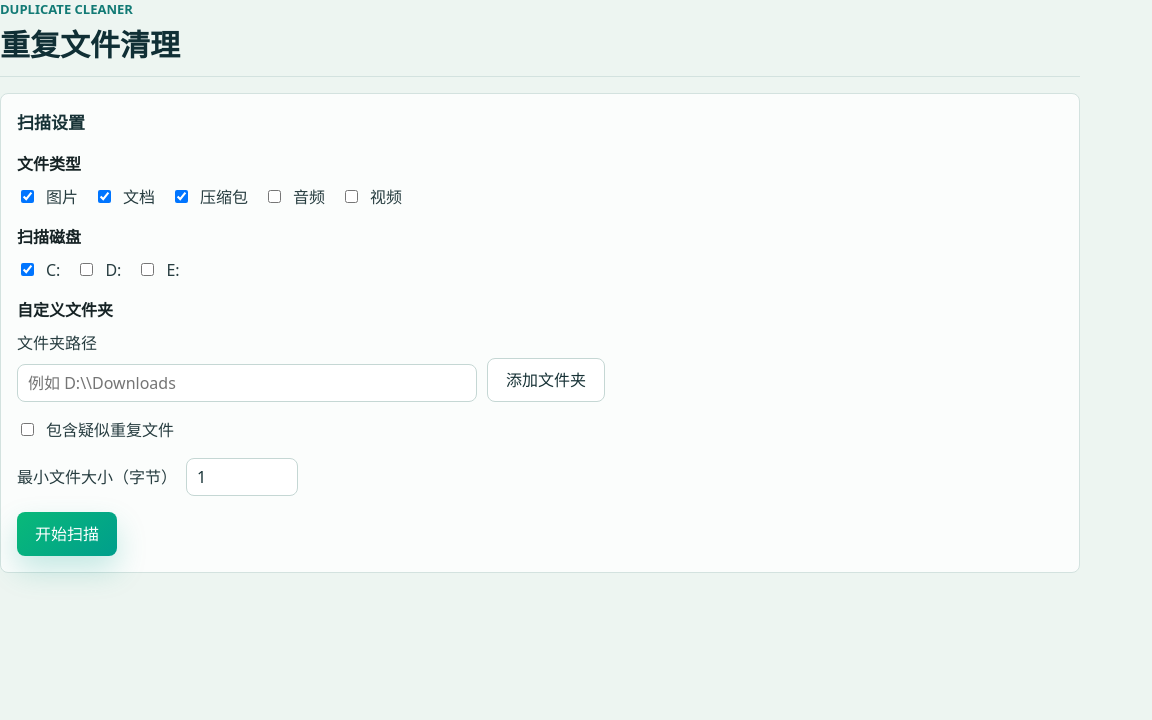
DuplicateCleanerPage › separates strict and suspected duplicate results and does not show raw fingerprints
The width and height of the screenshot is (1152, 720).
Click the button "开始扫描": (67, 534) top-left (17, 512), bottom-right (117, 556)
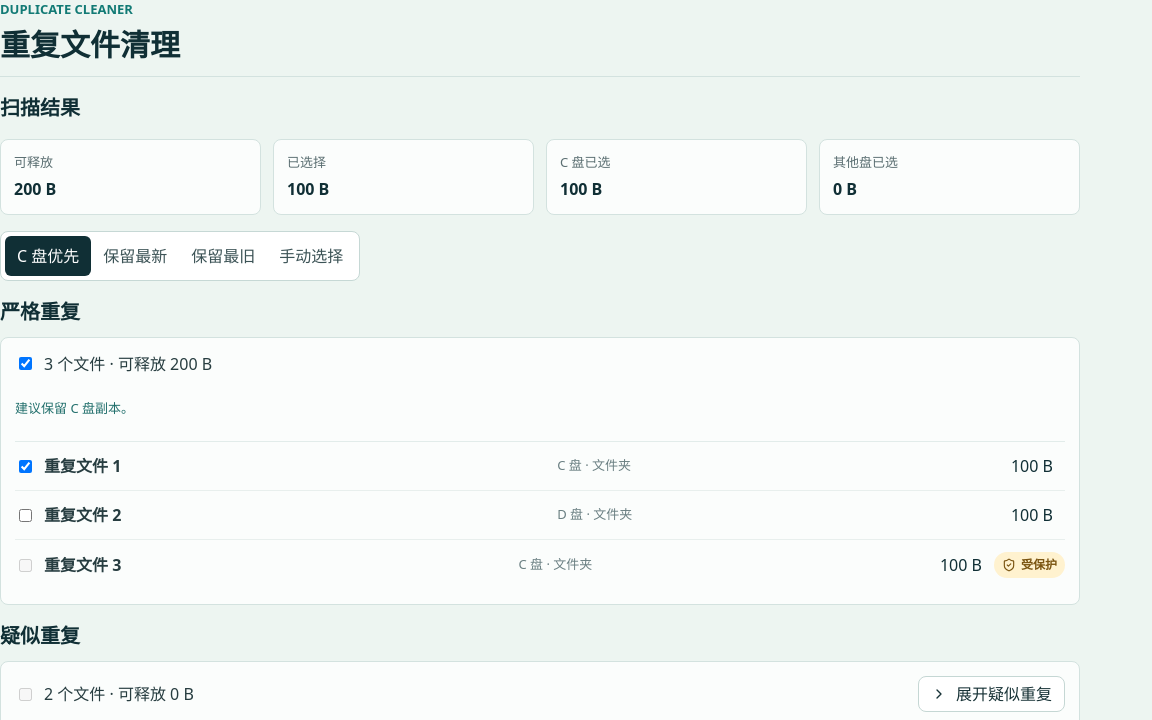
Result: the heading "扫描结果" is shown at top-left (0, 94), bottom-right (80, 121)
Result: the heading "严格重复" is shown at top-left (0, 298), bottom-right (80, 324)
Result: the heading "疑似重复" is shown at top-left (0, 622), bottom-right (80, 649)
Click the button "展开疑似重复": (992, 694) top-left (918, 676), bottom-right (1065, 712)
(page scrolled)
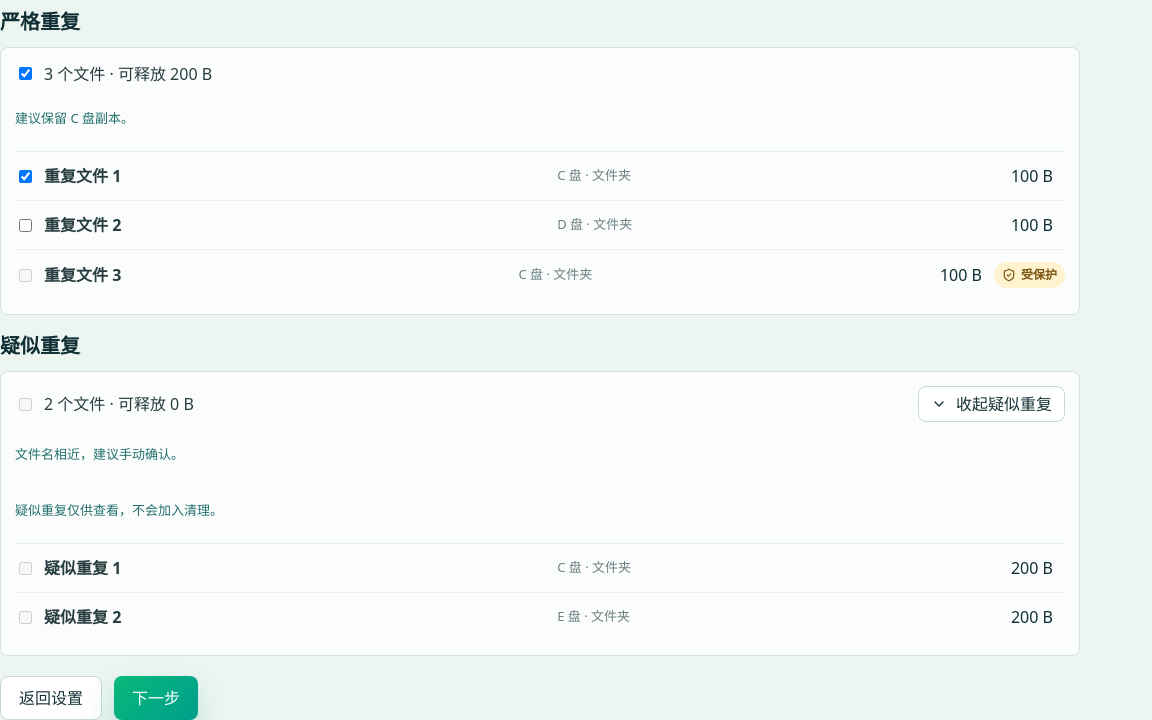
Result: the text "疑似重复仅供查看，不会加入清理。" is shown at top-left (15, 500), bottom-right (223, 518)
Result: the text "疑似重复 1" is shown at top-left (44, 556), bottom-right (121, 580)
